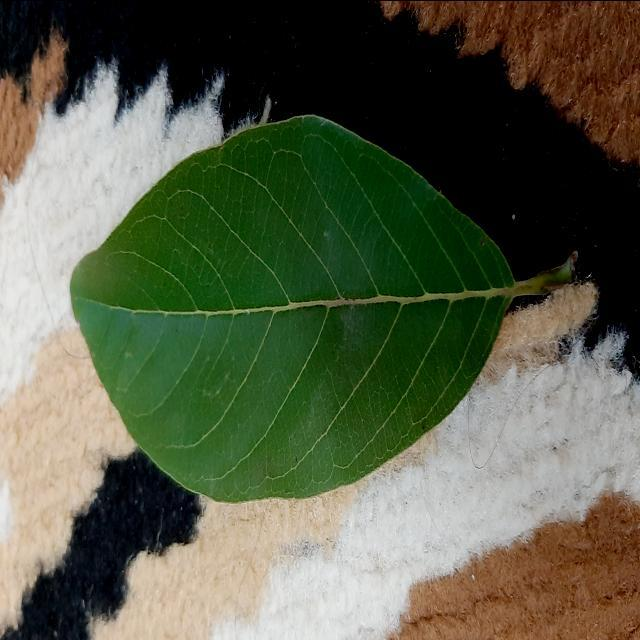leaf: (68, 112, 570, 504)
